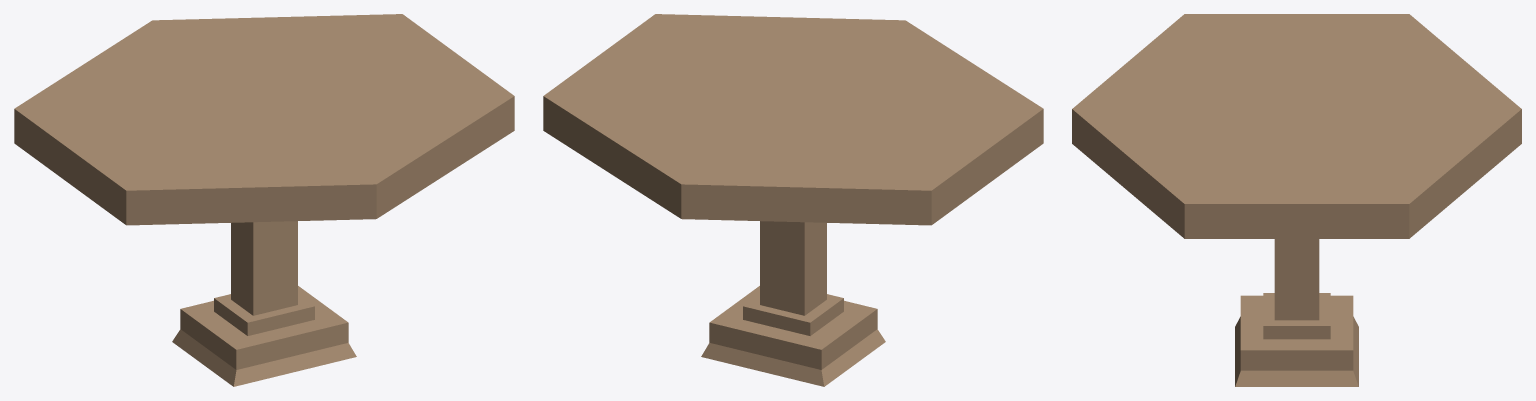
File: dining_table.glb
3 views of the same model, side by side, from view 1: azimuth 30°, elevation 25°; view 2: azimuth 150°, elevation 25°; view 3: azimuth 270°, elevation 25° (orthographic).
Visible parts, largest first — view 1: tableRound(Clone); view 2: tableRound(Clone); view 3: tableRound(Clone).
Part boxes in pixels (<box>): tableRound(Clone): <box>14,14,514,386</box>; tableRound(Clone): <box>543,14,1043,386</box>; tableRound(Clone): <box>1072,14,1521,386</box>.
Size of the model in its own units: 1.25 by 0.76 by 1.25.
